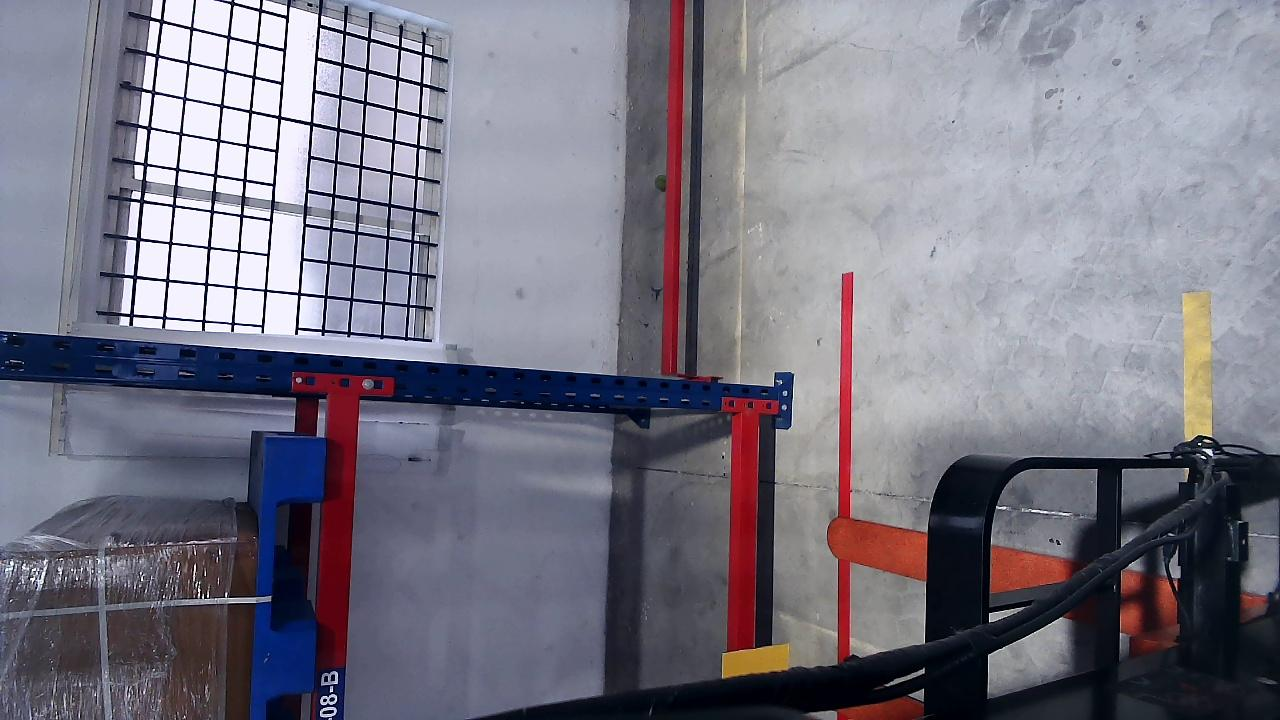h_rack: (324, 393, 349, 719), (729, 411, 758, 677)
orange_strip: (721, 652, 789, 677)
red_line: (836, 270, 855, 665)
small_pallet: (256, 437, 329, 717)
yellow_line: (1182, 291, 1214, 439)
